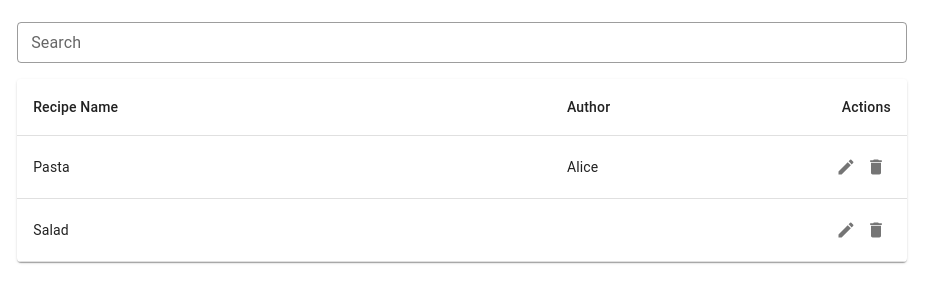
Test: RecipeList › search › filters recipes by description after debounce
Type "garden" into the field labelled "Search" at (462, 42), box [17, 22, 907, 63]
Wait 200 ms
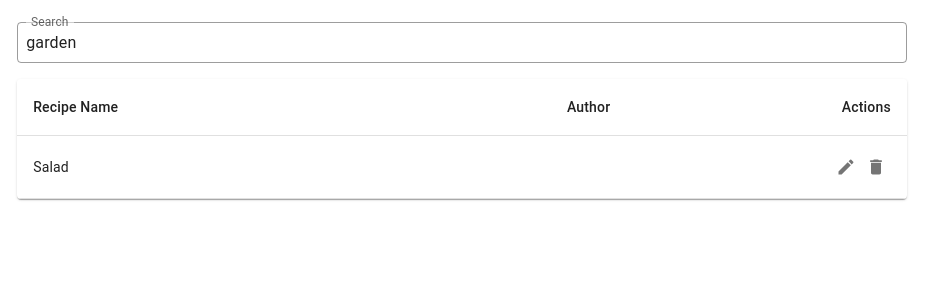
Expected: the text "Salad" is shown, [17, 136, 551, 199]
Result: the text "Pasta" is gone
